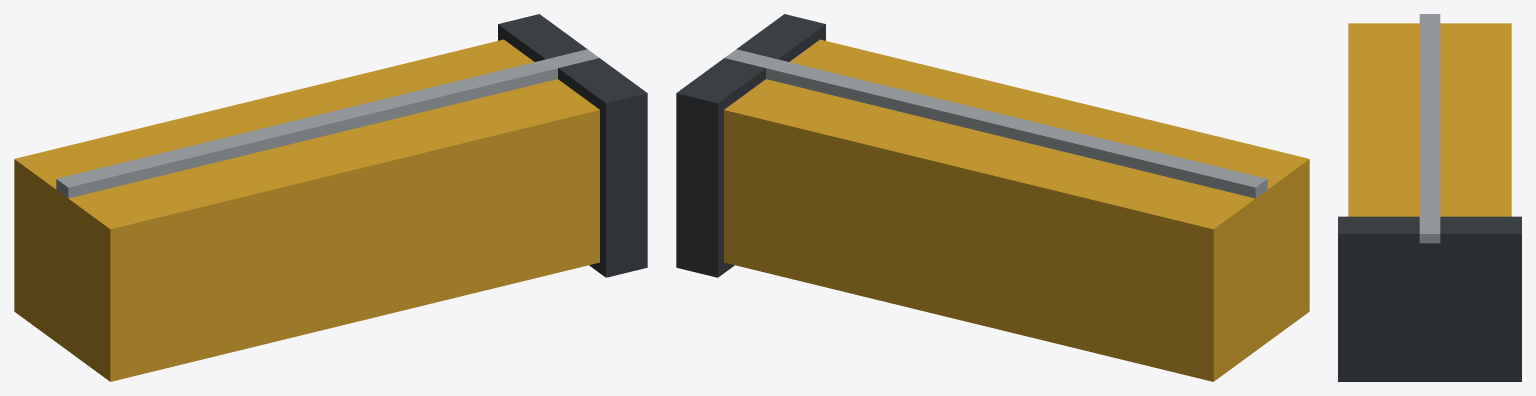
The model's file is mobile_crane_boom_stage_2.glb.
3 renders of one model, left to right at view 1: azimuth 30°, elevation 25°; view 2: azimuth 150°, elevation 25°; view 3: azimuth 270°, elevation 25°, orthographic. The views are drawn at different scales.
Visible parts, largest first — view 1: body:compound; view 2: body:compound; view 3: body:compound.
Part boxes in pixels (x1=…): body:compound: x1=14, y1=14, x2=647, y2=381; body:compound: x1=676, y1=14, x2=1309, y2=381; body:compound: x1=1338, y1=14, x2=1521, y2=381.
Bounding box in the file's own units: 1.59 × 0.5 × 0.5625.
